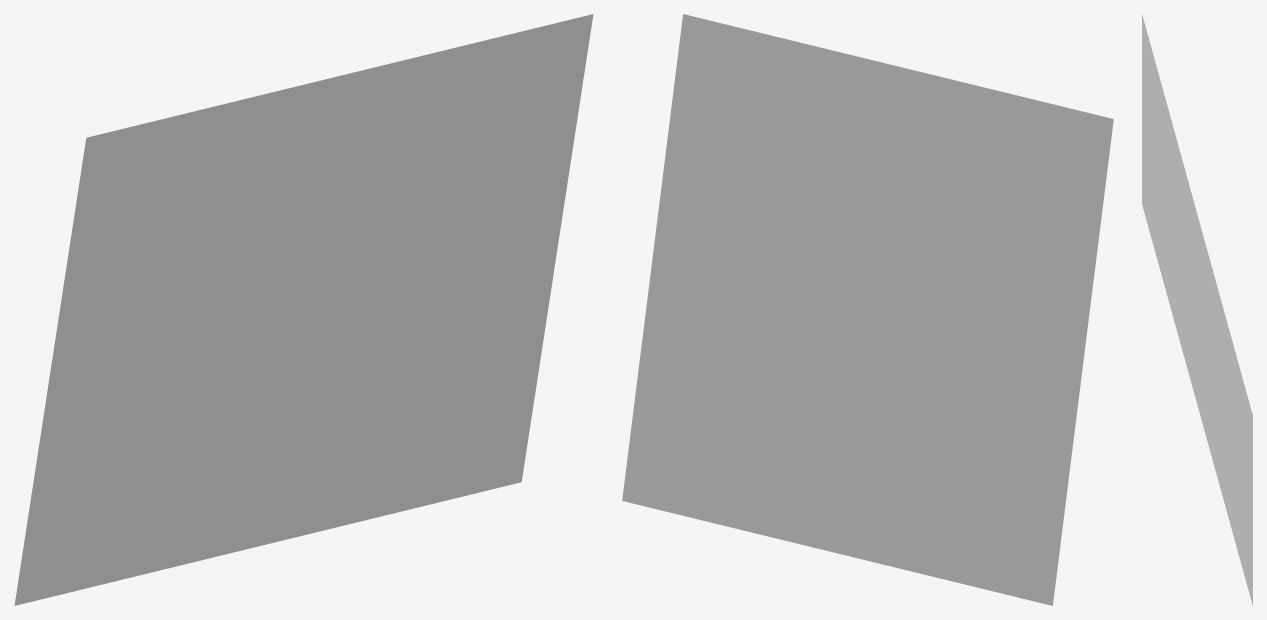
Rendered from primary_112.glb.
3 views of the same model, side by side, from view 1: azimuth 30°, elevation 25°; view 2: azimuth 150°, elevation 25°; view 3: azimuth 270°, elevation 25° (orthographic). The views are drawn at different scales.
Visible parts, largest first — view 1: Object; view 2: Object; view 3: Object.
Boxes of the visible parts, x1,y1,x2,y2 form: Object: (14, 14, 593, 605); Object: (622, 14, 1113, 605); Object: (1142, 14, 1252, 605).
Size of the model in its own units: 1.51 by 1.48 by 0.3694.
1 material, 1 textured.
